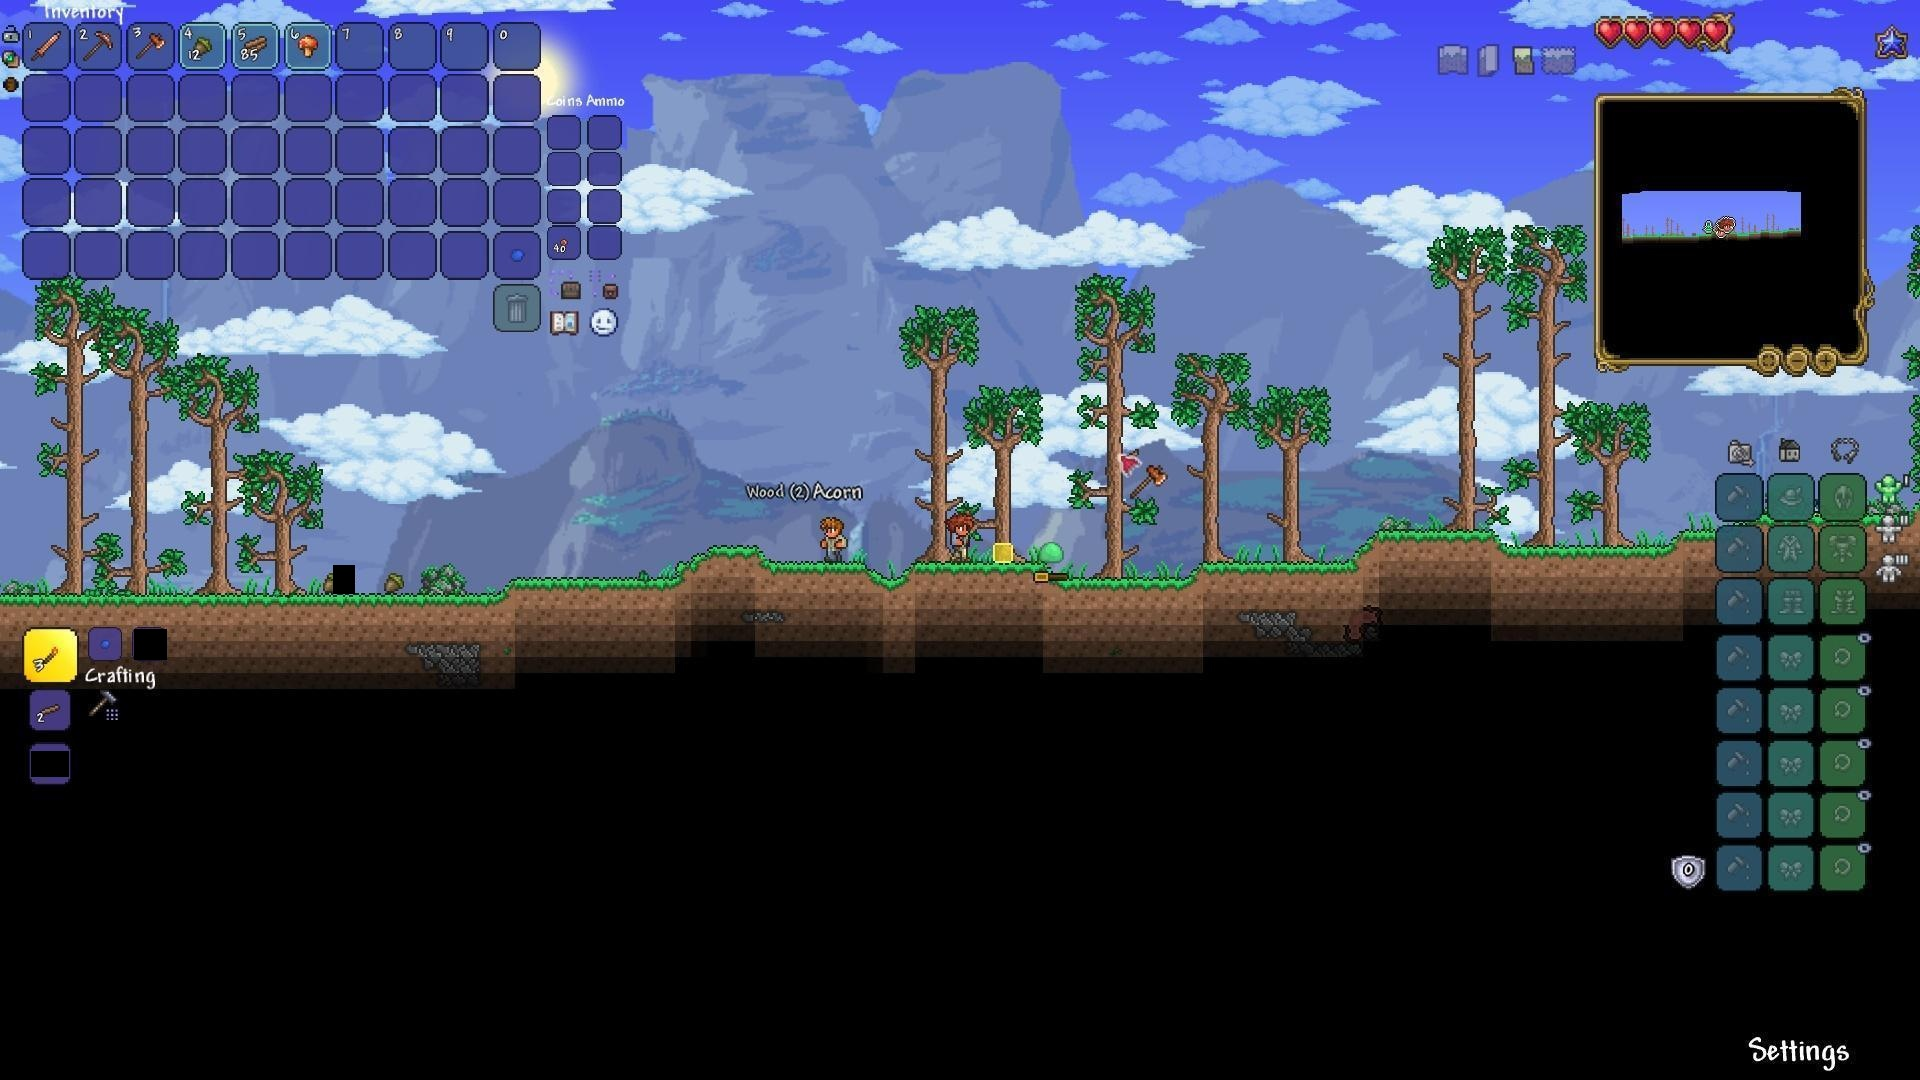slime: (1039, 541, 1064, 568)
wood: (237, 26, 268, 58)
